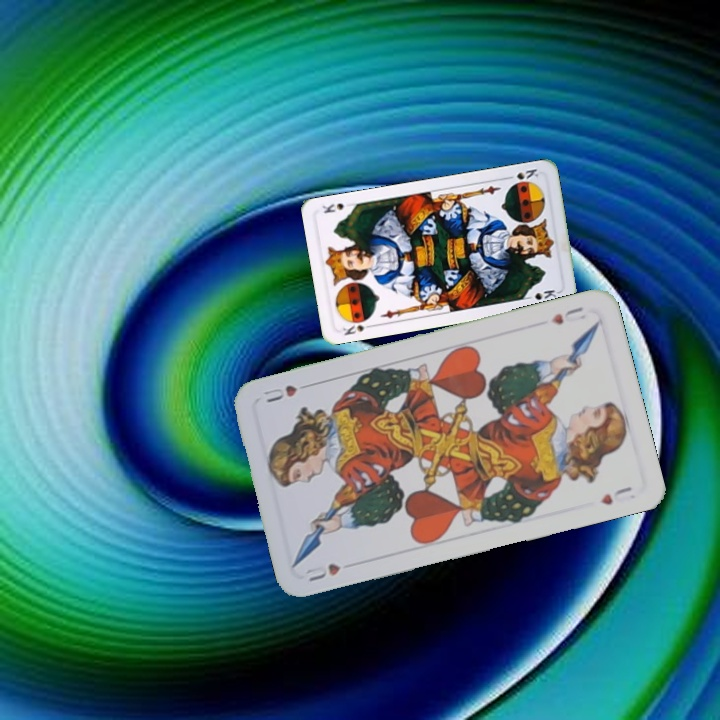HU: (547, 302, 589, 327), (302, 559, 343, 584)
SK: (339, 320, 377, 338), (502, 165, 541, 182)
